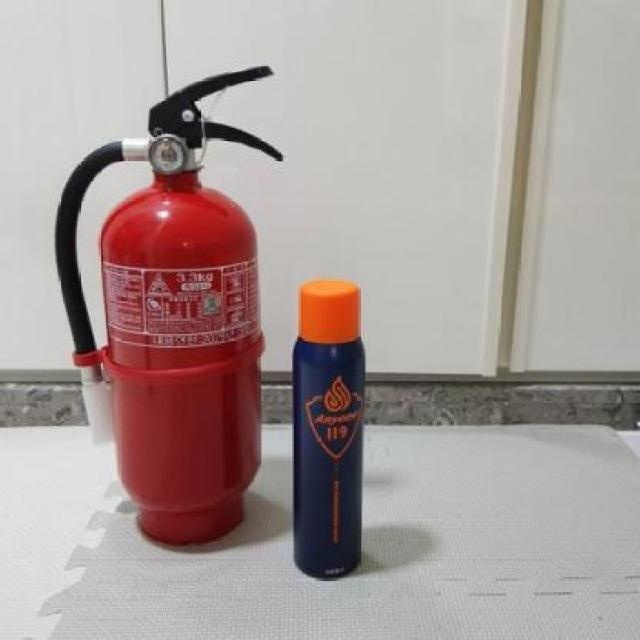fire extinguisher: (55, 66, 282, 545)
